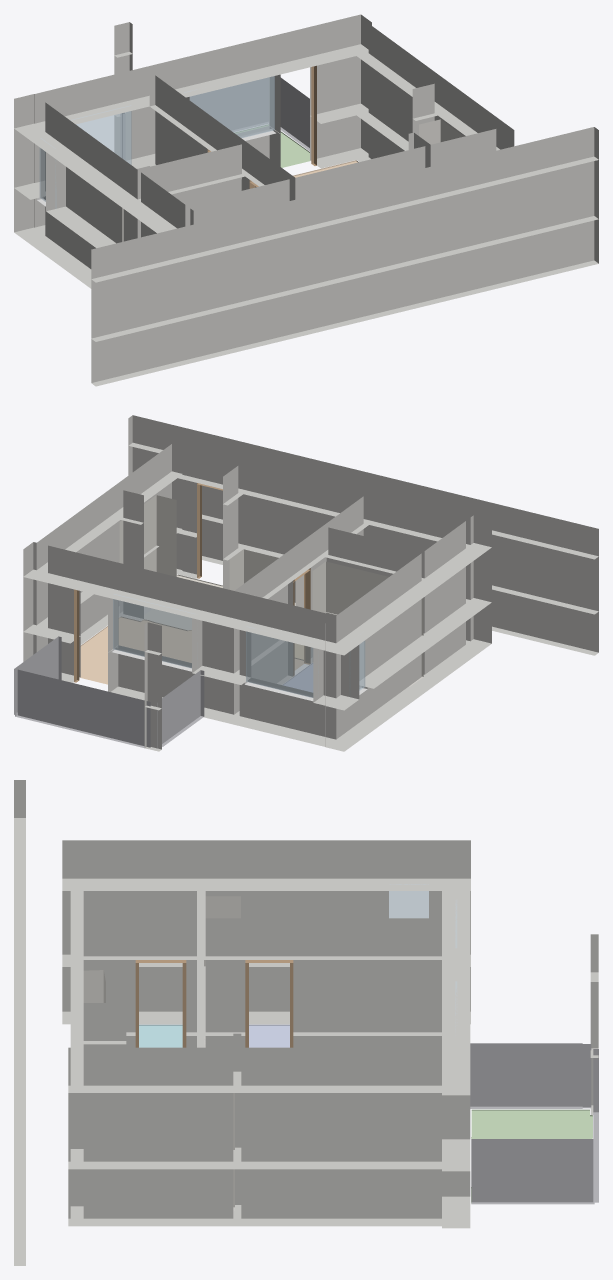
3 views of the same model, one above another, from view 1: azimuth 30°, elevation 25°; view 2: azimuth 150°, elevation 25°; view 3: azimuth 270°, elevation 25° (orthographic). The views are drawn at different scales.
Visible parts, largest first — view 1: walls, railings, window_2, window_0, floor_5_Outdoor, furniture_1_closet, door_3; view 2: walls, railings, window_2, window_0, floor_1_Living_Room, furniture_0_closet, furniture_1_closet, furniture_4_appliance, floor_3_Entry, door_3, door_6, door_4 (+1 smaller); view 3: walls, railings, floor_5_Outdoor, window_1, floor_4_Bath, floor_0_Bed_Room, door_5, furniture_0_closet, door_6, furniture_2_closet.
Boxes of the visible parts, x1=… form: walls: x1=14, y1=14, x2=598, y2=386; railings: x1=120, y1=77, x2=309, y2=160; window_2: x1=184, y1=76, x2=274, y2=137; window_0: x1=70, y1=105, x2=131, y2=164; floor_5_Outdoor: x1=234, y1=124, x2=309, y2=167; furniture_1_closet: x1=419, y1=119, x2=463, y2=144; door_3: x1=311, y1=65, x2=316, y2=165; walls: x1=23, y1=415, x2=598, y2=751; railings: x1=14, y1=636, x2=204, y2=748; window_2: x1=113, y1=594, x2=193, y2=668; window_0: x1=246, y1=626, x2=318, y2=697; floor_1_Living_Room: x1=80, y1=616, x2=303, y2=684; furniture_0_closet: x1=312, y1=561, x2=423, y2=686; furniture_1_closet: x1=119, y1=495, x2=176, y2=618; furniture_4_appliance: x1=229, y1=549, x2=278, y2=590; floor_3_Entry: x1=144, y1=574, x2=222, y2=629; door_3: x1=74, y1=589, x2=79, y2=682; door_6: x1=293, y1=568, x2=310, y2=675; door_4: x1=197, y1=483, x2=222, y2=578; walls: x1=14, y1=780, x2=598, y2=1265; railings: x1=470, y1=1043, x2=598, y2=1204; floor_5_Outdoor: x1=471, y1=1109, x2=592, y2=1202; window_1: x1=389, y1=884, x2=428, y2=918; floor_4_Bath: x1=139, y1=1024, x2=182, y2=1047; floor_0_Bed_Room: x1=249, y1=1024, x2=289, y2=1047; door_5: x1=135, y1=960, x2=186, y2=1047; furniture_0_closet: x1=204, y1=896, x2=240, y2=1046; door_6: x1=245, y1=960, x2=293, y2=1047; furniture_2_closet: x1=83, y1=970, x2=105, y2=1002.
Size of the model in its own units: 10.64 by 2.72 by 8.36.
